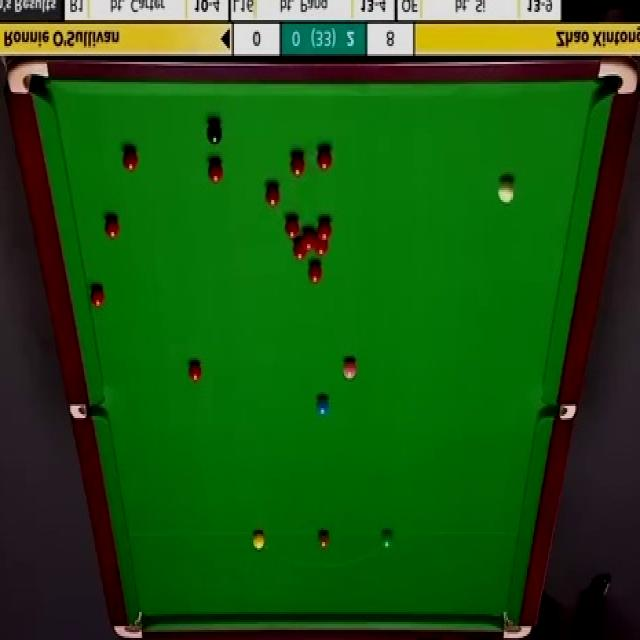pocket: (5, 58, 51, 98), (597, 57, 637, 98), (109, 608, 144, 640), (503, 612, 533, 640), (541, 403, 577, 420), (70, 403, 103, 420)
